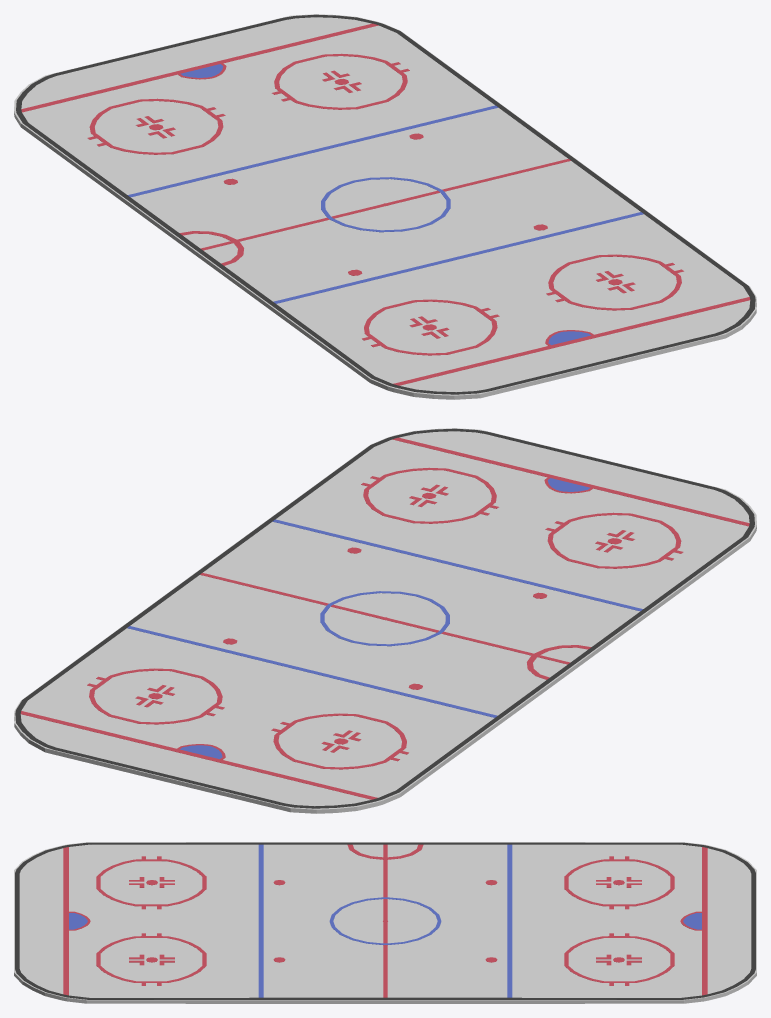
Rendered from Ice Hockey Rink.fbx.
The picture shows the model from 3 angles, top to bottom: view 1: azimuth 30°, elevation 25°; view 2: azimuth 150°, elevation 25°; view 3: azimuth 270°, elevation 25°; orthographic projection. The views are drawn at different scales.
Parts seen in each view (by area): view 1: Ice Hockey Rink; view 2: Ice Hockey Rink; view 3: Ice Hockey Rink.
Part boxes in pixels (<box>): Ice Hockey Rink: <box>14,14,756,399</box>; Ice Hockey Rink: <box>14,428,756,813</box>; Ice Hockey Rink: <box>14,842,756,1003</box>.
Bounding box in the file's own units: 9638 × 105 × 19128.
